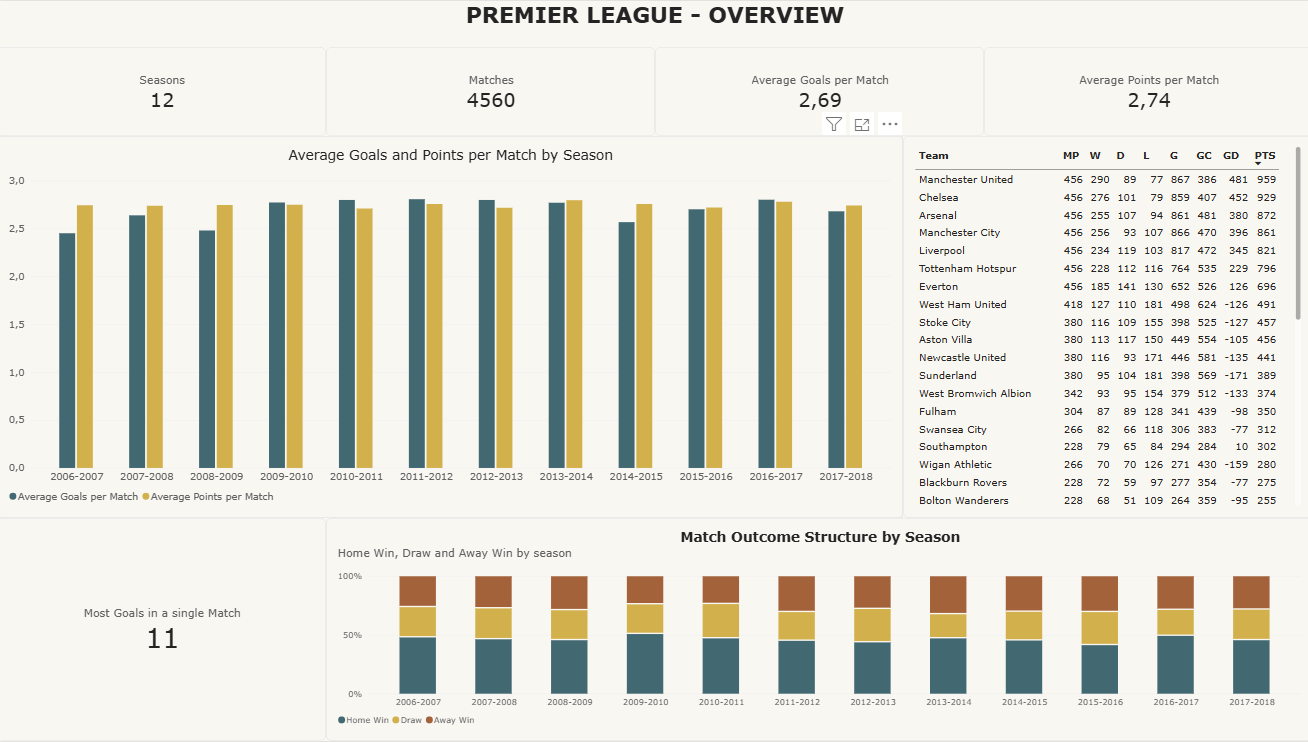

This screenshot's page, from the dashboard's own definition file:
{"tool":"powerbi","page":{"name":"Premier League - Overview","canvas":[1920,1080],"ordinal":0},"visuals":[{"type":"cardVisual","fields":{"Data":["Count(public results.season)"]},"box":[0,67.1,480,130],"z":0},{"type":"cardVisual","fields":{"Data":["public results.Srednia gole na mecz"]},"box":[960,67.1,480,130],"z":1000},{"type":"cardVisual","fields":{"Data":["public results.Liczba meczów"]},"box":[480,67.1,480,130],"z":2000},{"type":"cardVisual","fields":{"Data":["public results.Średnia punktów na mecz"]},"box":[1440,67.1,480,130],"z":3000},{"type":"textbox","box":[0,0,1920,67.1],"z":4000},{"type":"tableEx","fields":{"Values":["public stats.team","public results.Mecze","public results.Zwycięstwa","public results.D","public results.L","public results.G","public results.GC","public results.B","public results.PKT"]},"box":[1321.8,197,598.2,557.3],"z":5000},{"type":"clusteredColumnChart","title":"Average Goals and Points per Match by Season","fields":{"Category":["public results.season"],"Y":["public results.Srednia gole na mecz","public results.Średnia punktów na mecz"]},"box":[0,197,1321.8,557.3],"z":6000},{"type":"cardVisual","fields":{"Data":["public results.Najwięcej goli w meczu"]},"box":[0,754.3,480,325.3],"z":7000},{"type":"hundredPercentStackedColumnChart","title":"Match Outcome Structure by Season","fields":{"Category":["public results.season"],"Y":["public results.zwyciestw","public results.remis","public results.porazka"]},"box":[480,754.3,1440,325.3],"z":8000}]}

Visuals, with their boxes in screenshot pixels (x1, y1, x2, y2), scaled from the page's 1920x1080 canvas onto the 1308x742 screenshot:
cardVisual - Count(public results.season): 0 46 327 135
cardVisual - public results.Srednia gole na mecz: 654 46 981 135
cardVisual - public results.Liczba meczów: 327 46 654 135
cardVisual - public results.Średnia punktów na mecz: 981 46 1307 135
textbox: 0 0 1307 46
tableEx - public stats.team x public results.Mecze: 900 135 1307 518
"Average Goals and Points per Match by Season" clusteredColumnChart: 0 135 900 518
cardVisual - public results.Najwięcej goli w meczu: 0 518 327 741
"Match Outcome Structure by Season" hundredPercentStackedColumnChart: 327 518 1307 741
